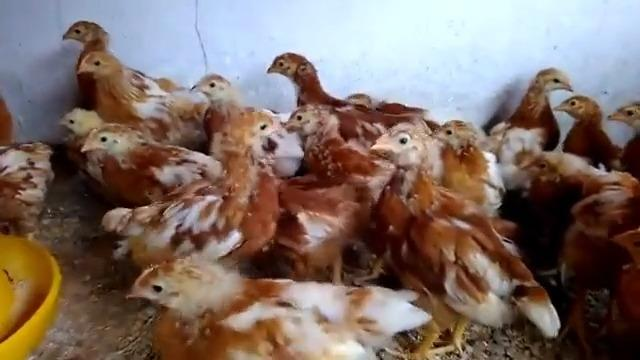Normal: (361, 117, 565, 355)
